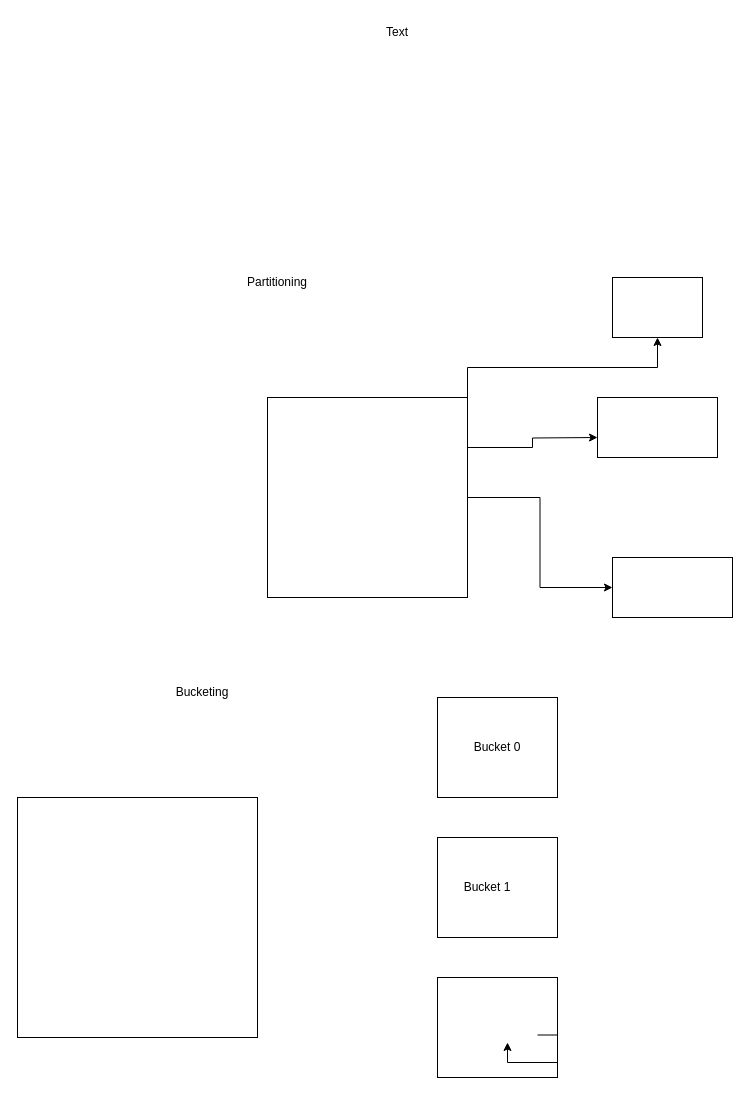
Image size: 750x1095. Some labels were removed from this diagram. The box of each missing label's shape, as (x1, y1, x2, y2) in pixels:
Bucket 2: (436, 976, 558, 1078)
CT: (612, 276, 702, 338)
